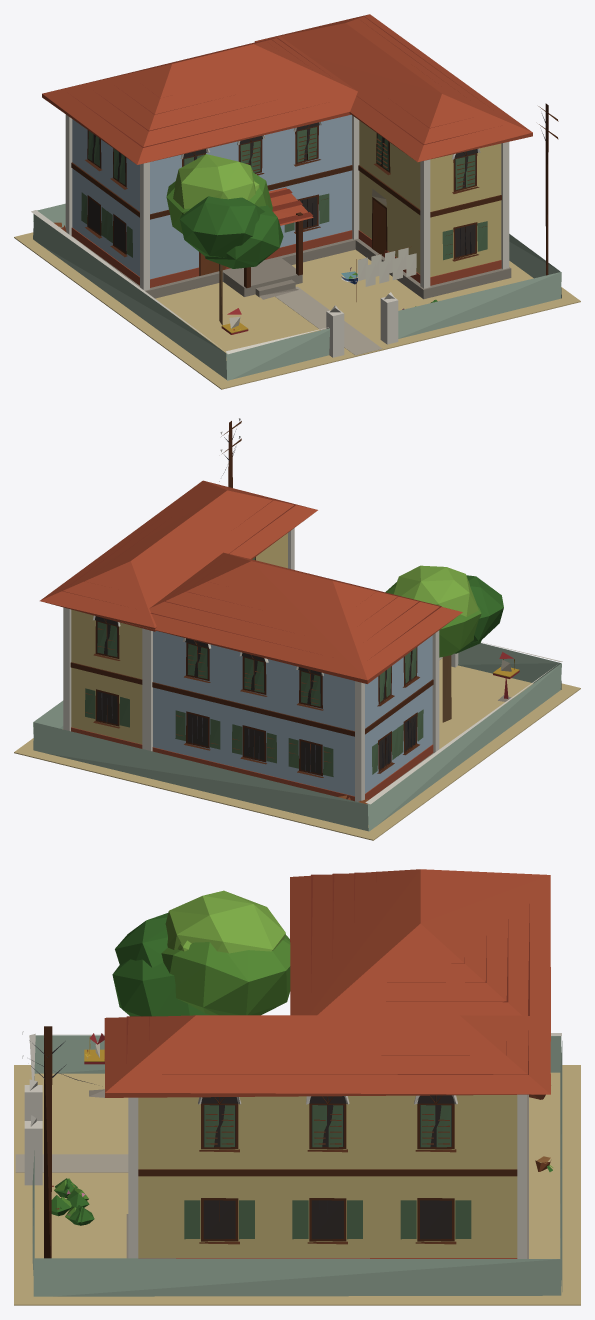
File: home_4.glb
3 renders of one model, top to bottom at view 1: azimuth 30°, elevation 25°; view 2: azimuth 150°, elevation 25°; view 3: azimuth 270°, elevation 25°, orthographic. The views are drawn at different scales.
Visible parts, largest first — view 1: body, windows; view 2: body, windows; view 3: body, windows.
Part boxes in pixels (x1,y1,x2,y2): body: (14,14,580,389); windows: (88,122,477,257); body: (14,418,580,840); windows: (95,616,416,773); body: (14,869,580,1305); windows: (201,1095,454,1239).
Bounding box in the file's own units: 15.9 × 8.53 × 15.9.
